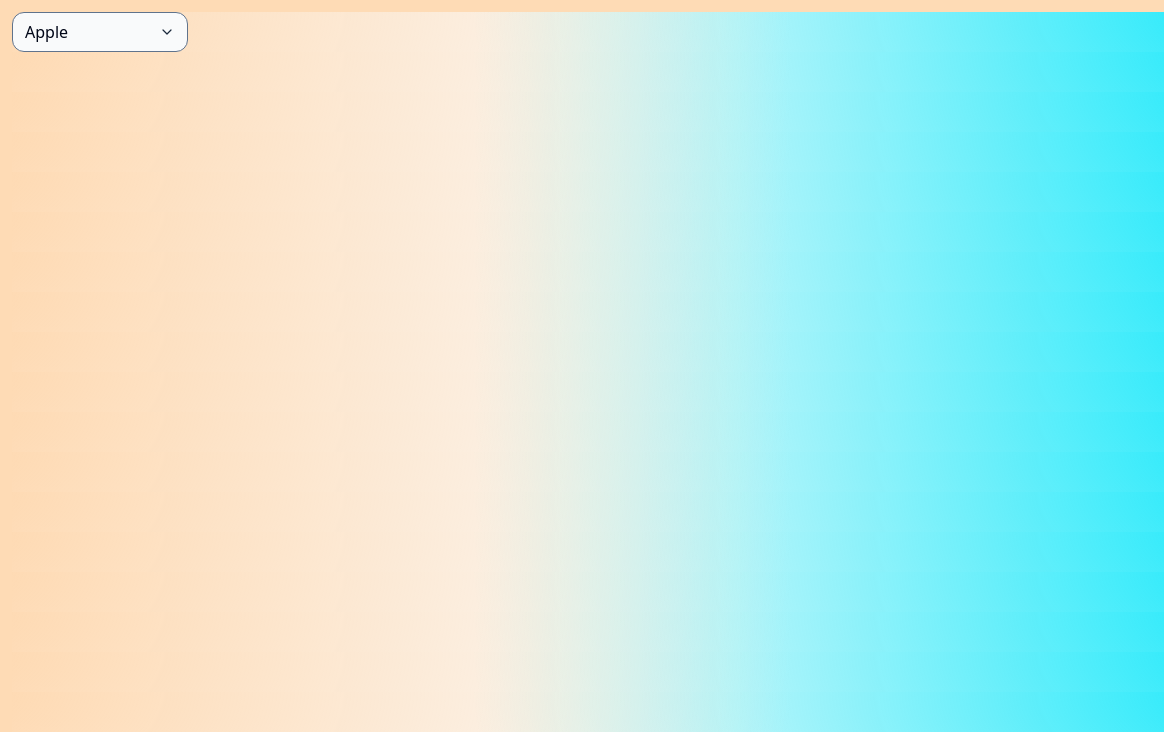
Test: Select › keeps disabled item non-selectable
Click the dropdown named "Food": (100, 32) x1=12 y1=12 x2=188 y2=52
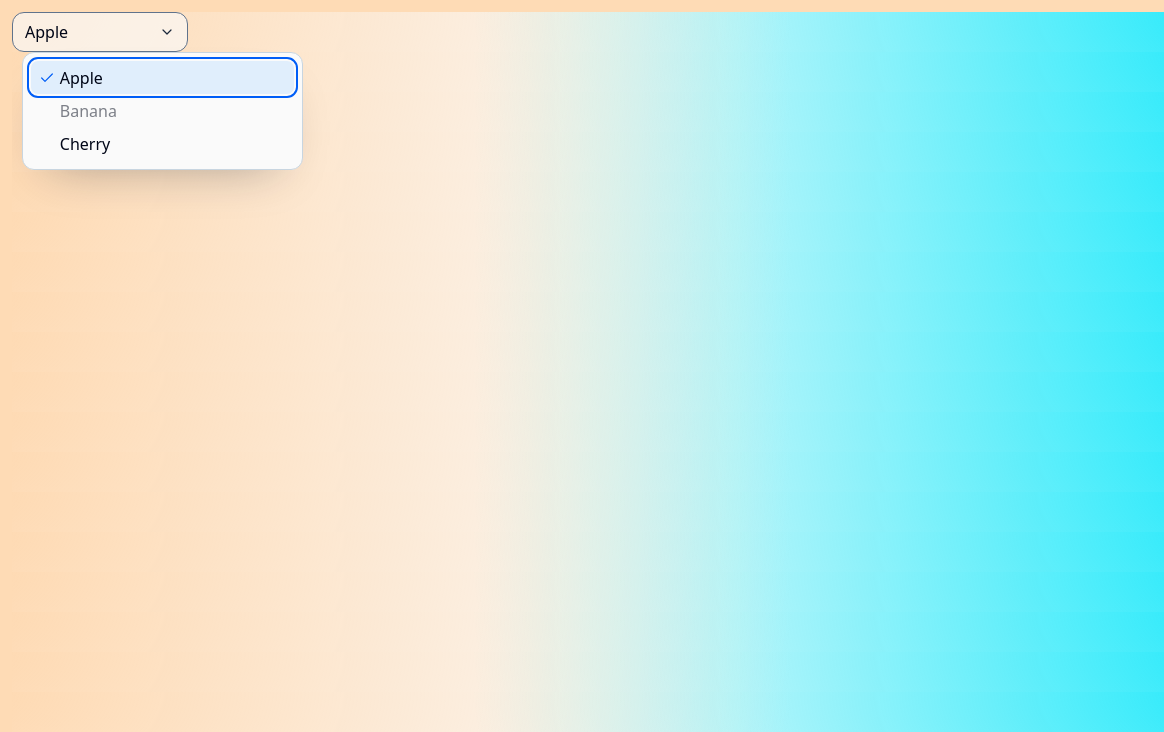
Click the option "Cherry": (85, 144) x1=60 y1=133 x2=110 y2=155
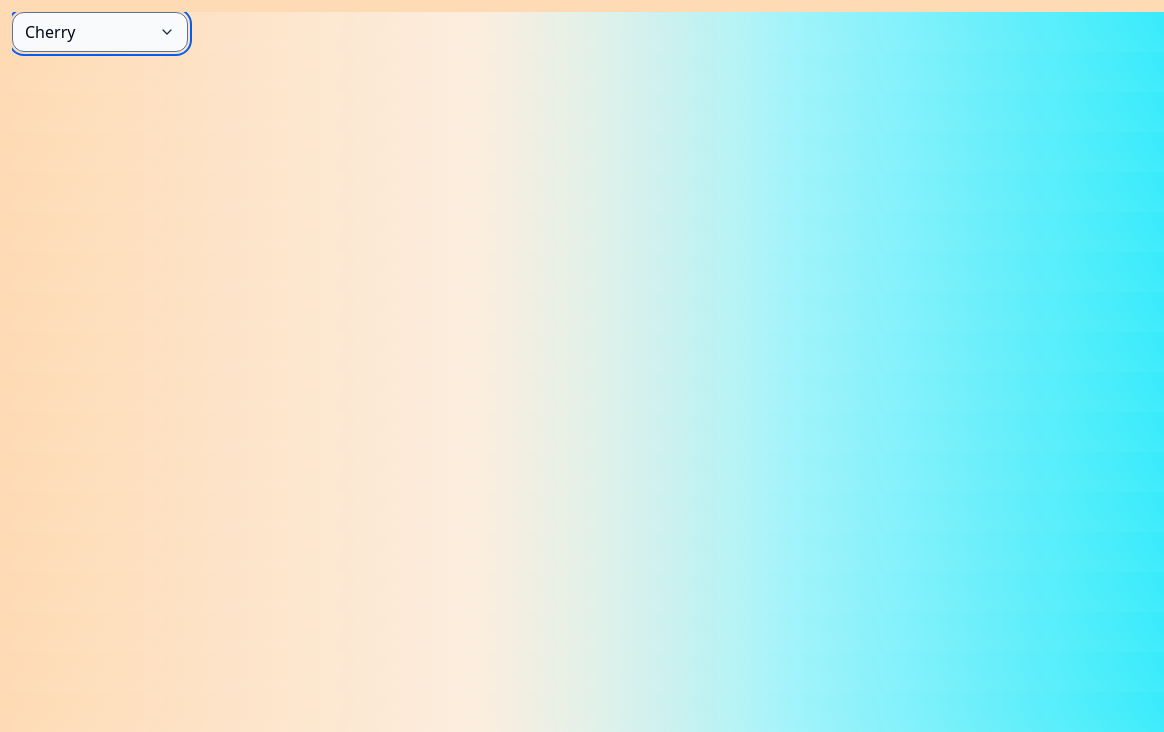
expect the dropdown named "Food" reads "Cherry": met, box x1=12 y1=12 x2=188 y2=52
